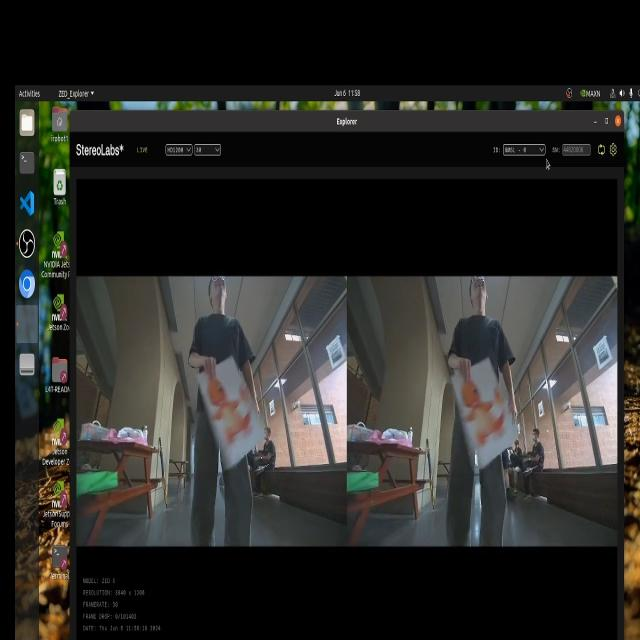red: (202, 368, 258, 451), (458, 375, 511, 459)
